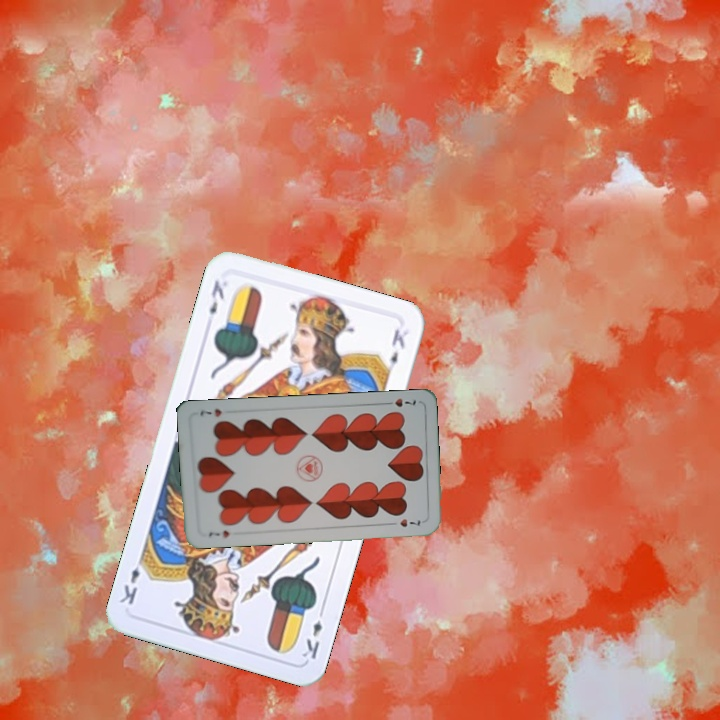EK: (298, 603, 327, 662), (205, 276, 227, 317)
H7: (380, 394, 419, 410), (205, 526, 232, 540)
